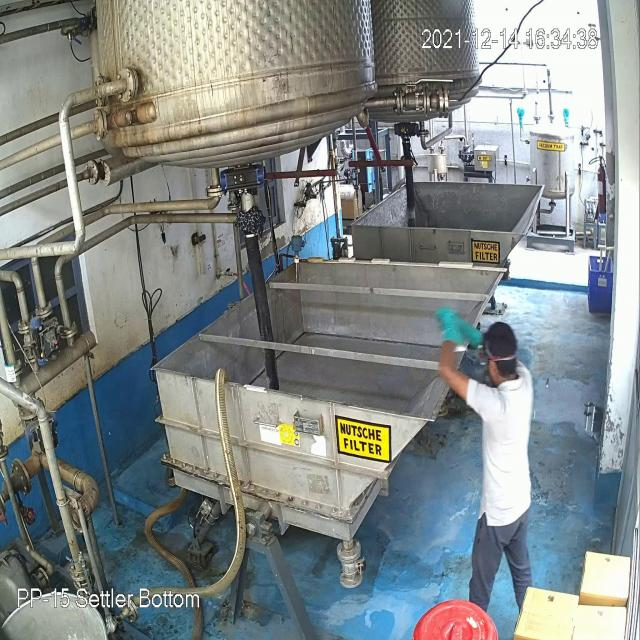Gloves: (434, 307, 463, 353)
